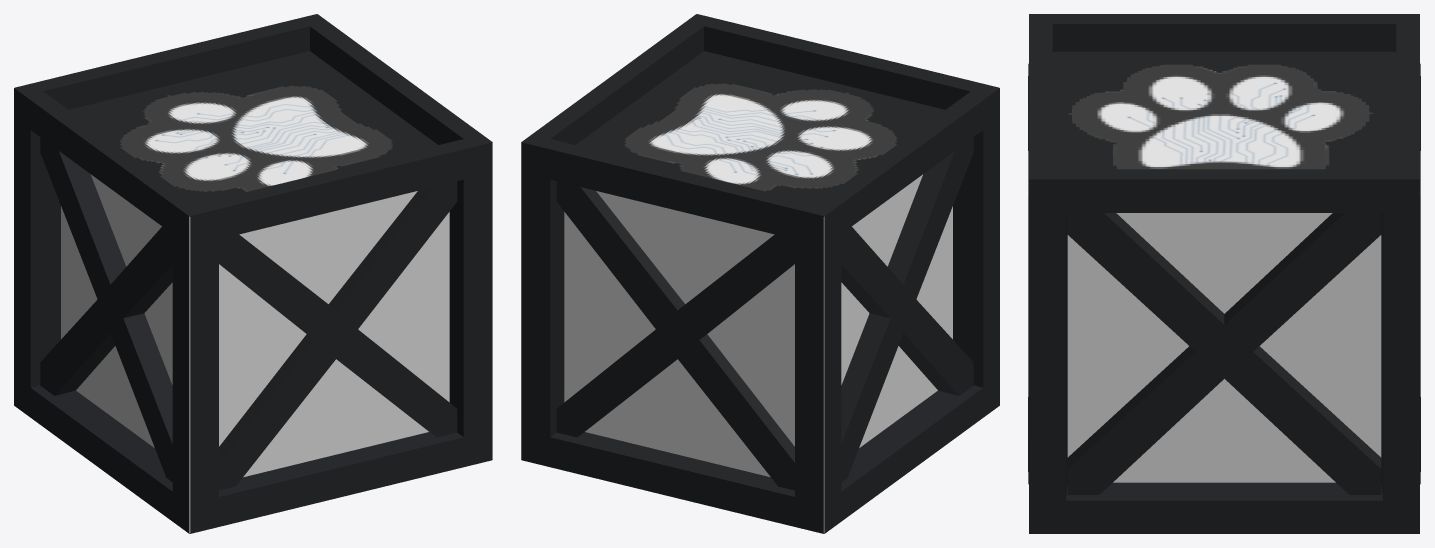
Rendered from caja-2-1.fbx.
3 renders of one model, left to right at view 1: azimuth 30°, elevation 25°; view 2: azimuth 150°, elevation 25°; view 3: azimuth 270°, elevation 25°, orthographic. The views are drawn at different scales.
Parts seen in each view (by area): view 1: Cube, Plane; view 2: Cube, Plane; view 3: Cube, Plane.
Part boxes in pixels (x1,y1,x2,y2): Cube: (14, 14, 492, 533); Plane: (119, 85, 392, 191); Cube: (521, 14, 999, 533); Plane: (624, 83, 897, 191); Cube: (1028, 14, 1420, 533); Plane: (1068, 64, 1372, 169).
Bounding box in the file's own units: 200 × 200 × 201.
